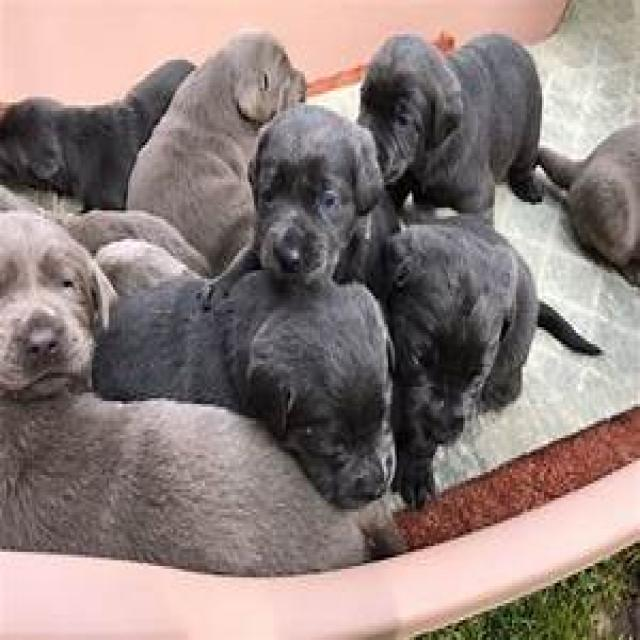dog: (0, 212, 392, 574), (95, 268, 395, 506), (386, 222, 538, 504), (128, 33, 305, 274), (359, 35, 542, 214), (0, 62, 192, 208), (250, 105, 382, 282)
